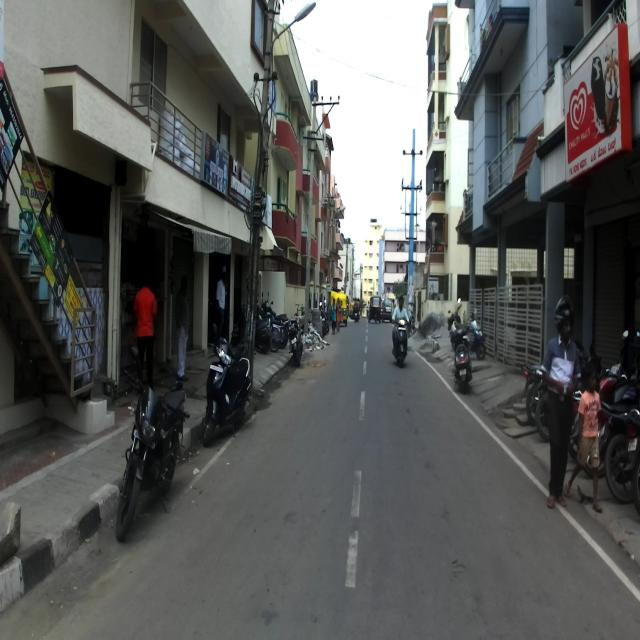Car_Maruti-Suzuki: (381, 298, 393, 321)
autorickshaw: (331, 292, 347, 328), (368, 295, 382, 322)
motorcycle_bajaj: (114, 346, 190, 542), (288, 319, 303, 366)
scooter: (201, 323, 253, 446), (230, 300, 270, 354), (452, 311, 488, 358), (449, 326, 472, 396), (391, 316, 409, 368)
